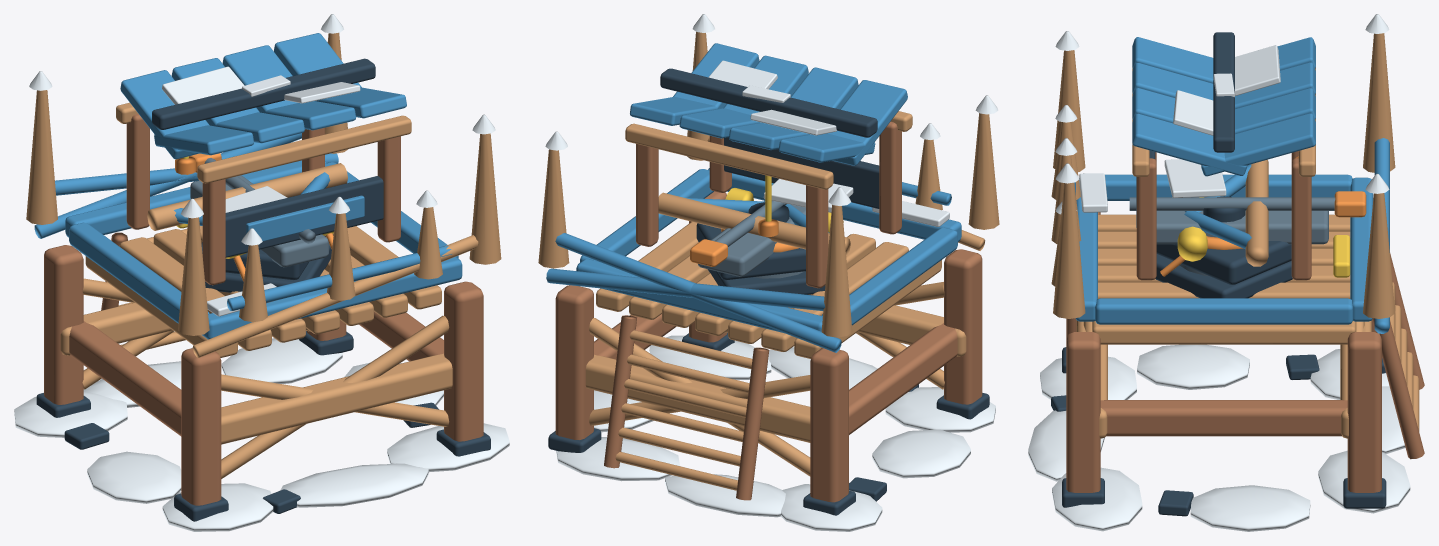
Rendered from defense_platform.glb.
The picture shows the model from 3 angles, left to right: view 1: azimuth 30°, elevation 25°; view 2: azimuth 150°, elevation 25°; view 3: azimuth 270°, elevation 25°; orthographic projection. The views are drawn at different scales.
Parts seen in each view (by area): view 1: defense_platform; view 2: defense_platform; view 3: defense_platform.
Boxes of the visible parts, left/top/right/bottom form: defense_platform: left=14, top=14, right=509, bottom=531; defense_platform: left=538, top=14, right=999, bottom=531; defense_platform: left=1028, top=14, right=1424, bottom=531.
Bounding box in the file's own units: 3.02 × 2.81 × 2.76.
